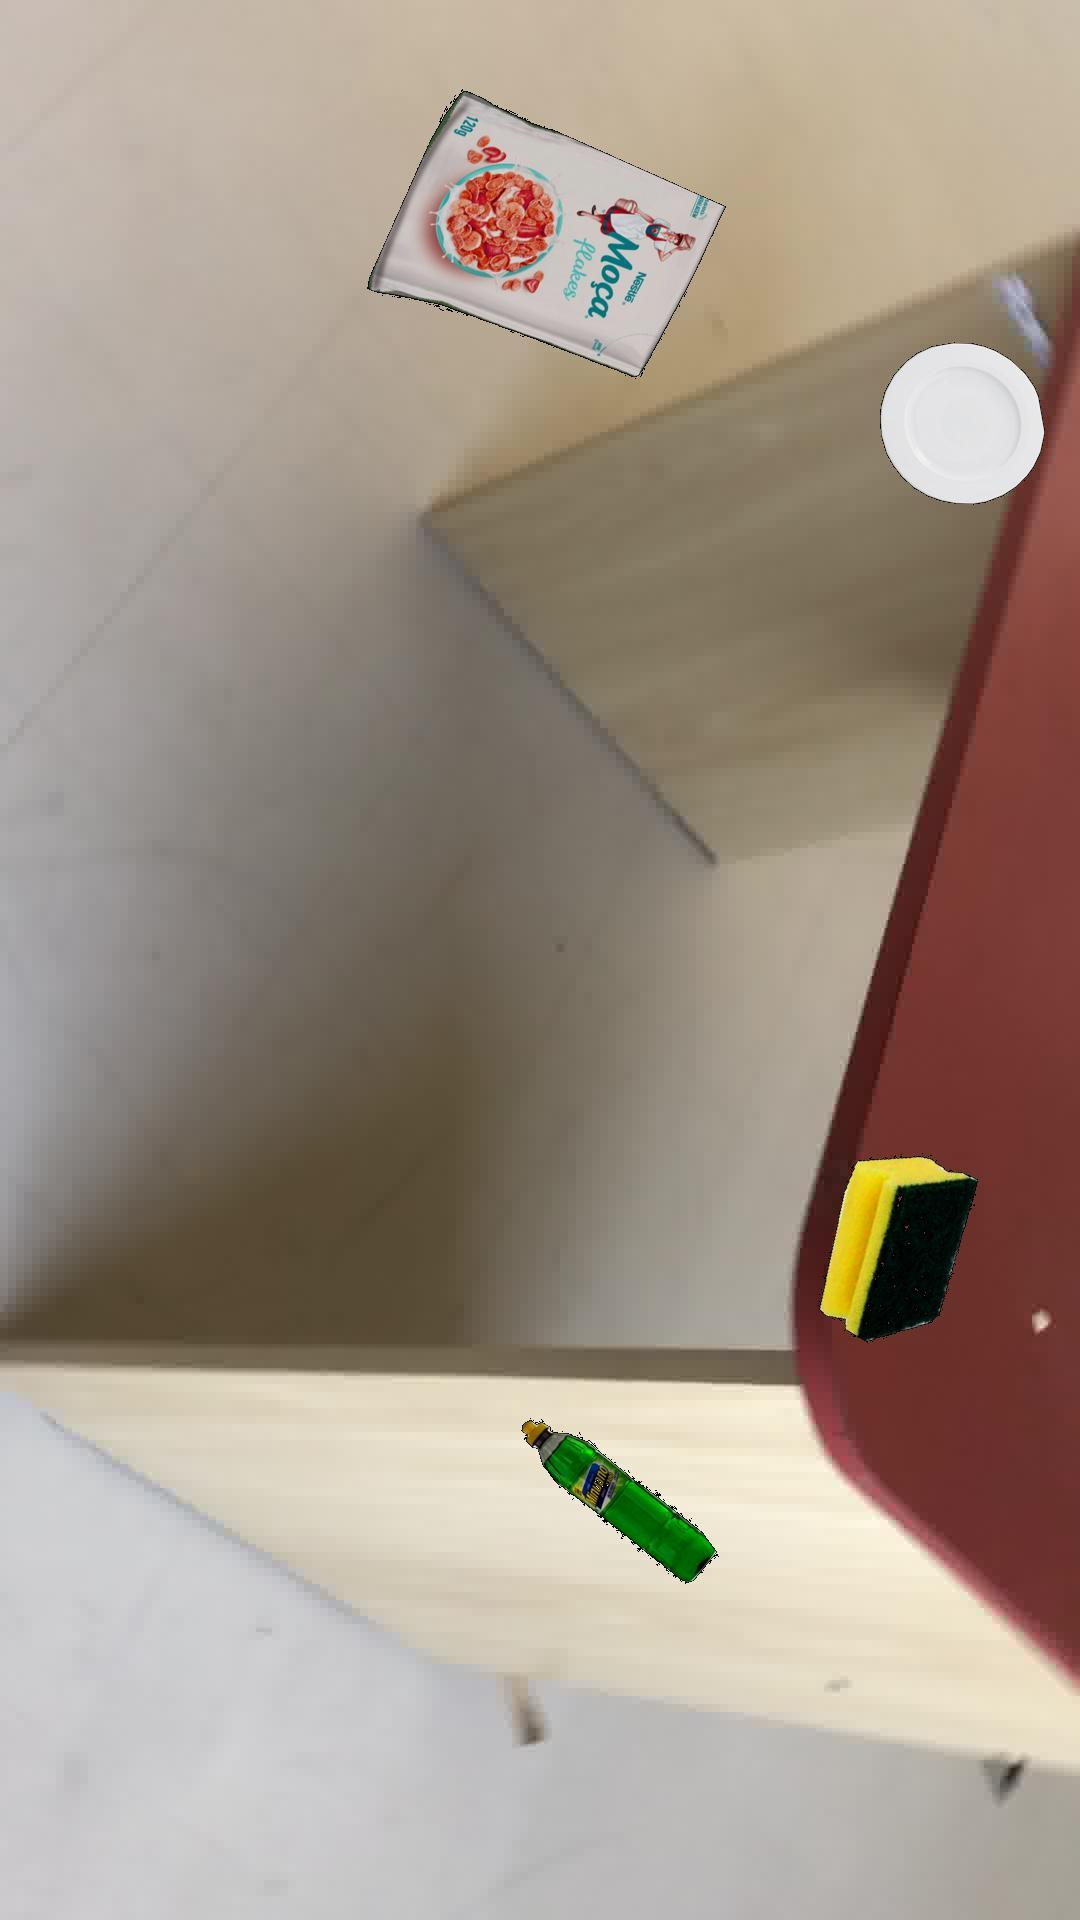cleaner: (520, 1419, 716, 1582)
corn flakes: (365, 90, 724, 376)
plate: (878, 340, 1043, 504)
sponge: (818, 1154, 977, 1341)
